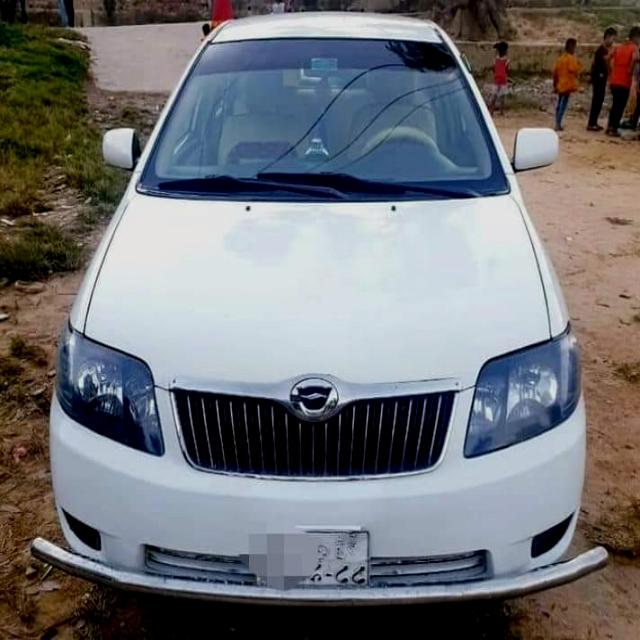white: (41, 4, 593, 576)
